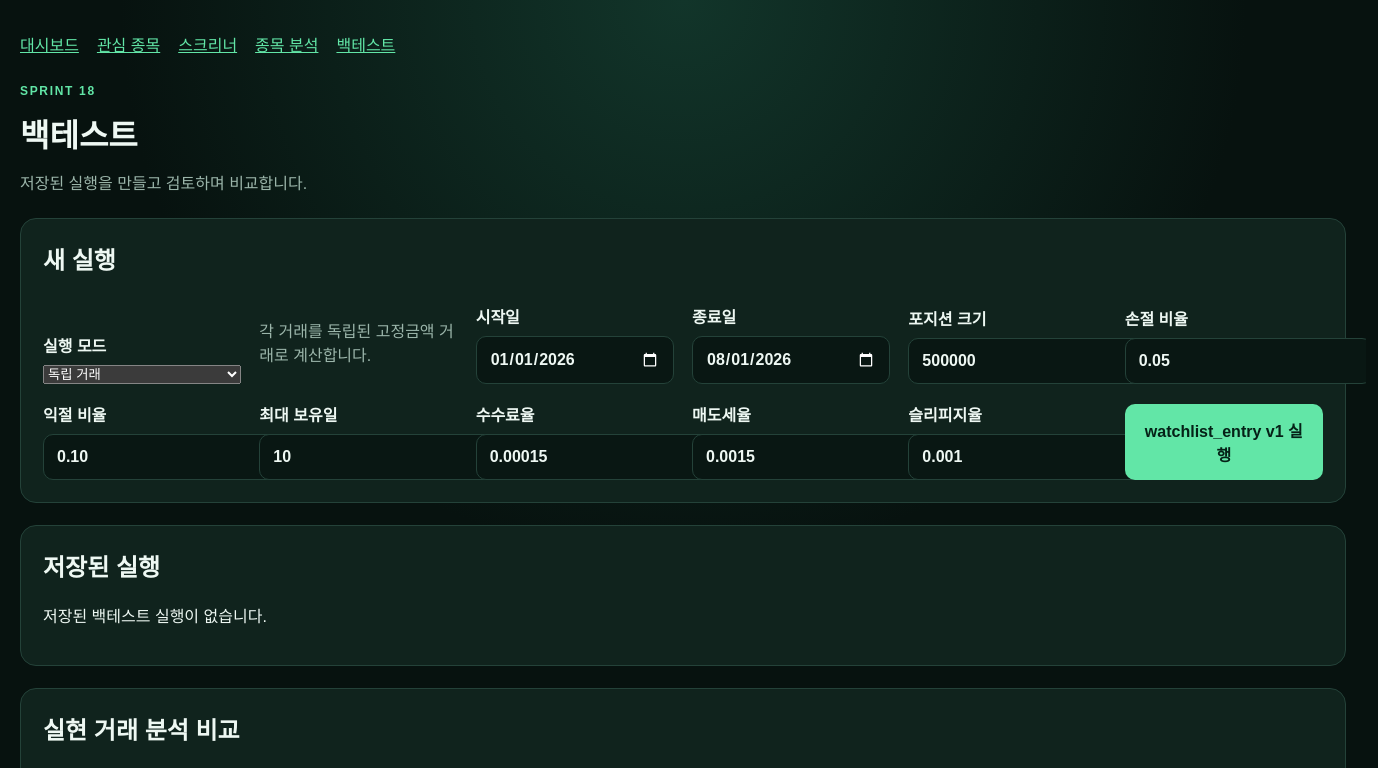
Test: run creation › posts the exact typed payload, refreshes, selects, and displays success
The image size is (1378, 768).
expect the text "저장된 백테스트 실행이 없습니다." is shown: met, box 43,608 -> 267,625
Replace the text in the number field labelled "포지션 크기" with "500000.12345678" at {"x": 1032, "y": 361}, box 908,338 -> 1155,384
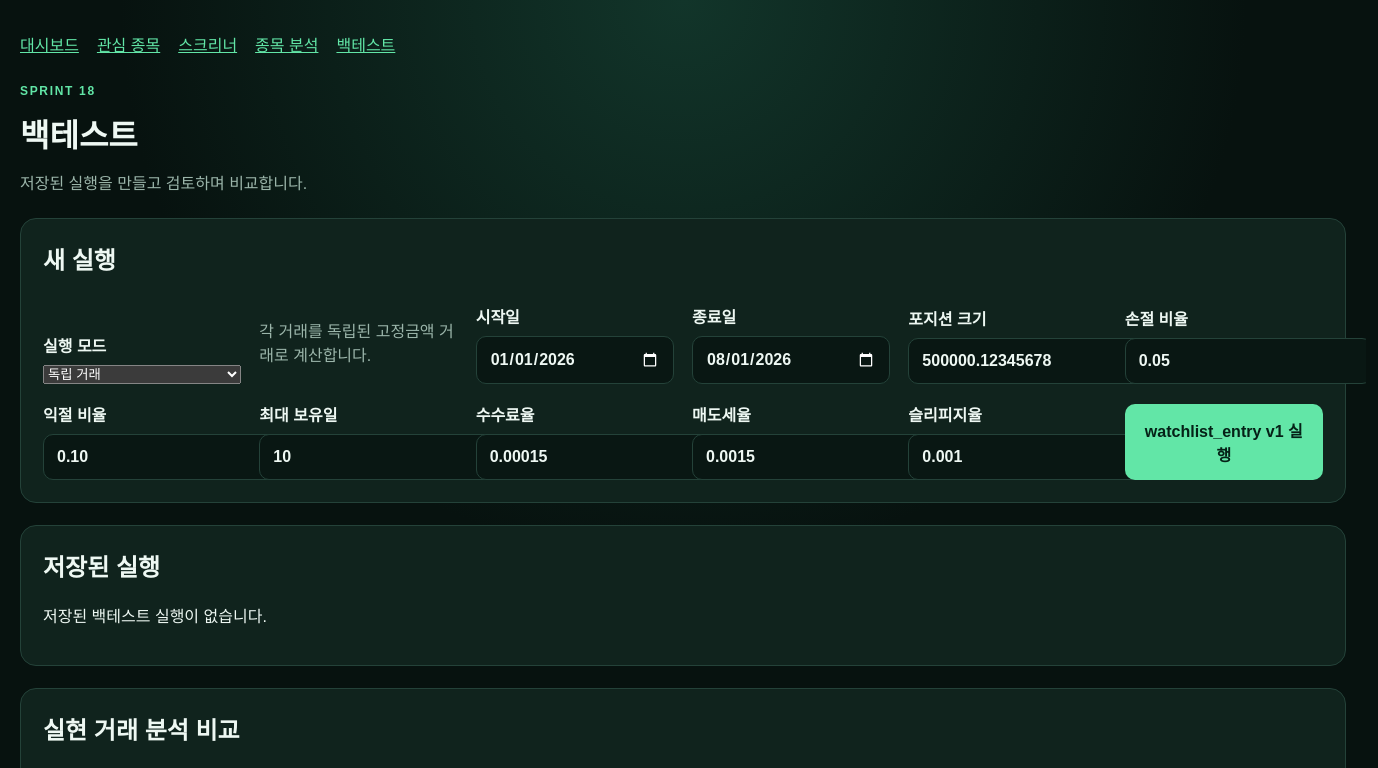
Click the button "watchlist_entry v1 실행" at {"x": 1224, "y": 442}, box 1125,404 -> 1323,480
(page scrolled)
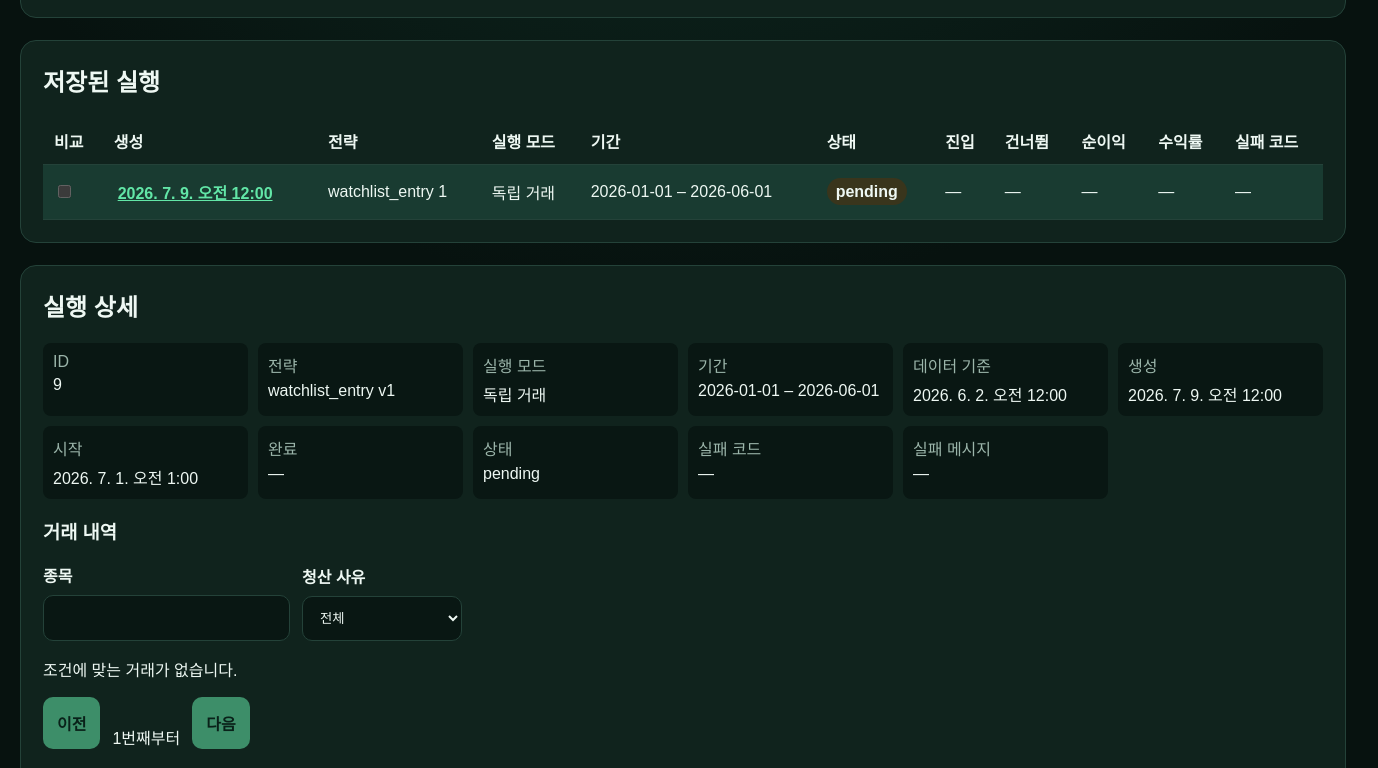
expect the heading "실행 상세" is shown: met, box 43,294 -> 138,321
expect the text "9" is shown: met, box 53,376 -> 62,393
